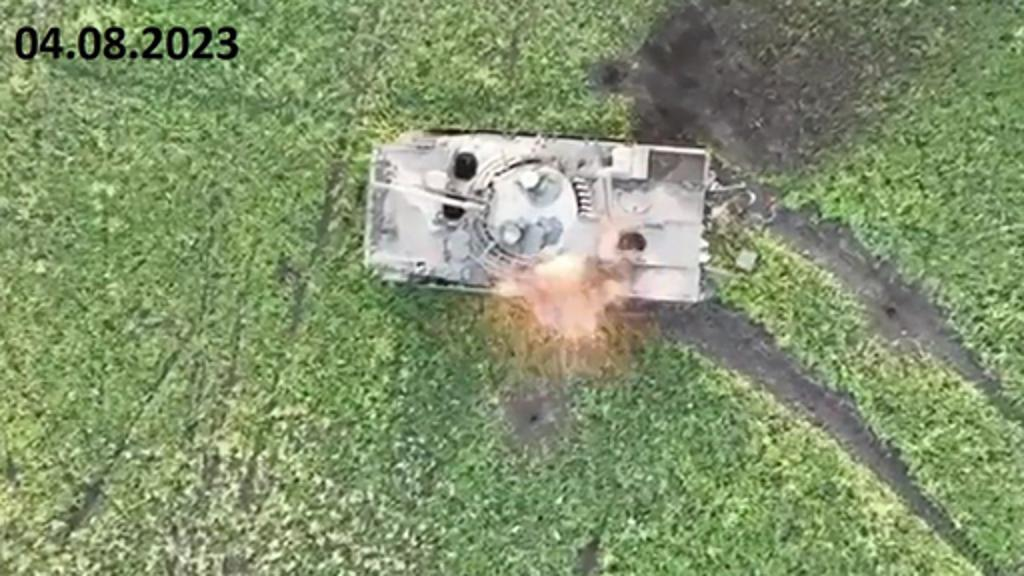APC-IFV: (338, 120, 728, 314)
